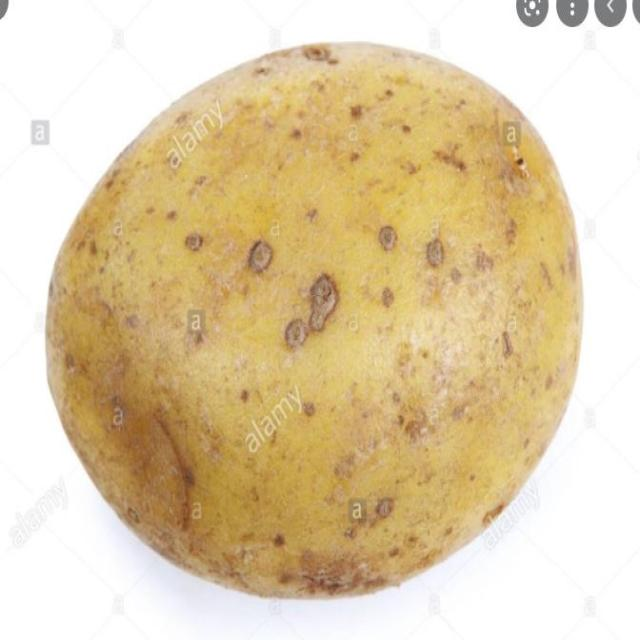potato: (46, 42, 584, 599)
